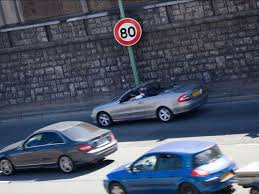Speed_limit_80km: (113, 17, 143, 46)
